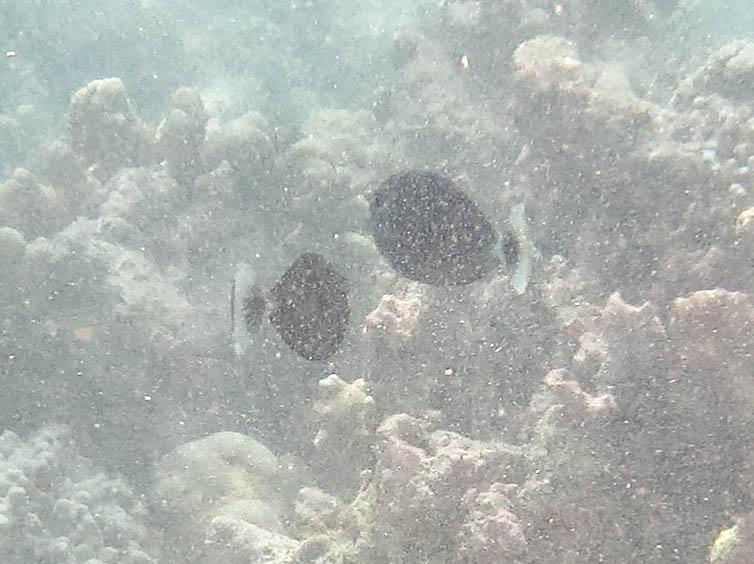Naso brevicordatus: (356, 152, 572, 304), (216, 233, 364, 384)
